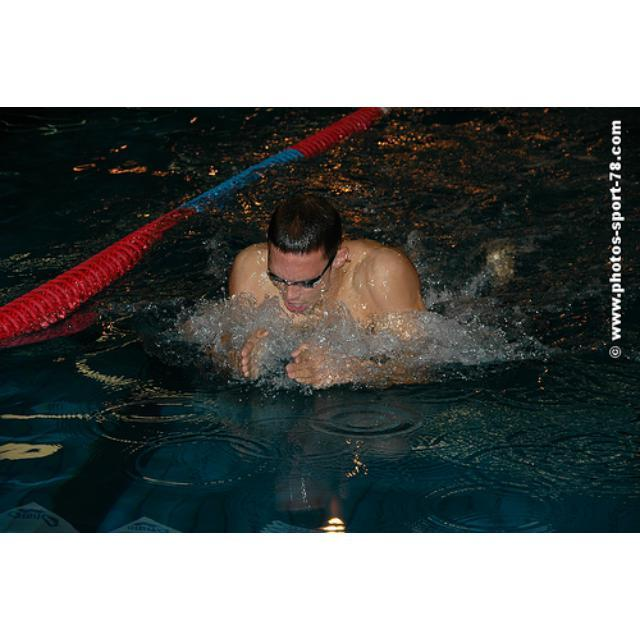human: (231, 195, 437, 385)
